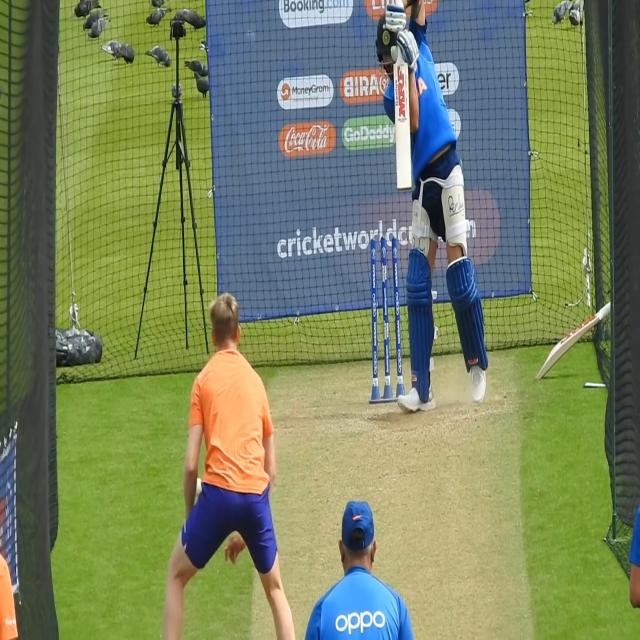stump: (368, 234, 403, 403)
